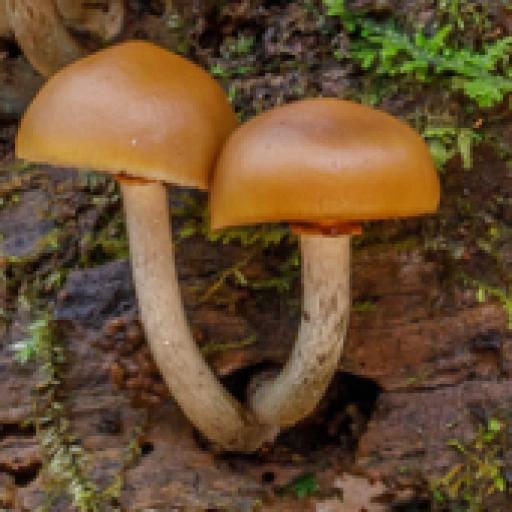mushroom: (14, 38, 445, 433)
